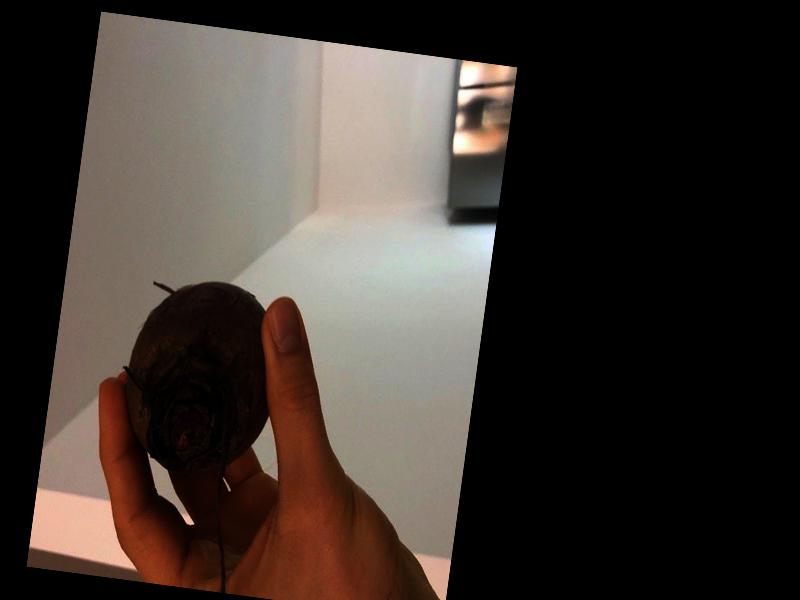Beet: (94, 269, 287, 594)
